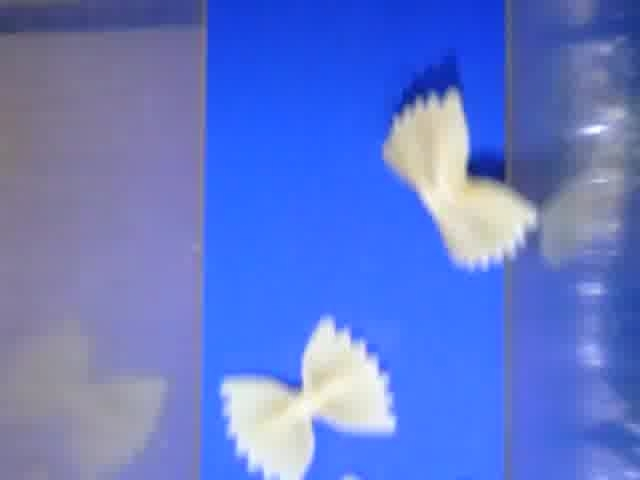farfalle: (380, 88, 537, 270), (220, 316, 397, 477)
